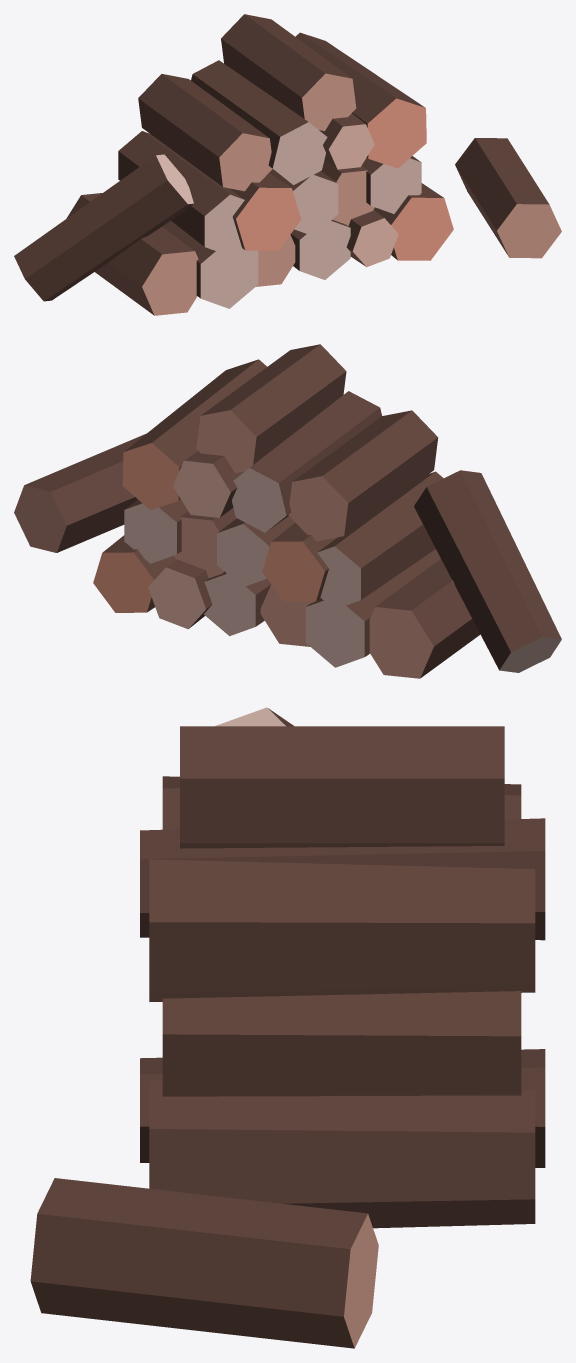
The model's file is props_066.glb.
3 views of the same model, one above another, from view 1: azimuth 30°, elevation 25°; view 2: azimuth 150°, elevation 25°; view 3: azimuth 270°, elevation 25° (orthographic). The views are drawn at different scales.
Parts seen in each view (by area): view 1: props_066; view 2: props_066; view 3: props_066.
Part boxes in pixels (x1=…): props_066: x1=14, y1=14, x2=561, y2=315; props_066: x1=14, y1=344, x2=561, y2=678; props_066: x1=30, y1=707, x2=545, y2=1348.
Bounding box in the file's own units: 2.99 × 1.2 × 1.35.
1 material, 1 textured.
